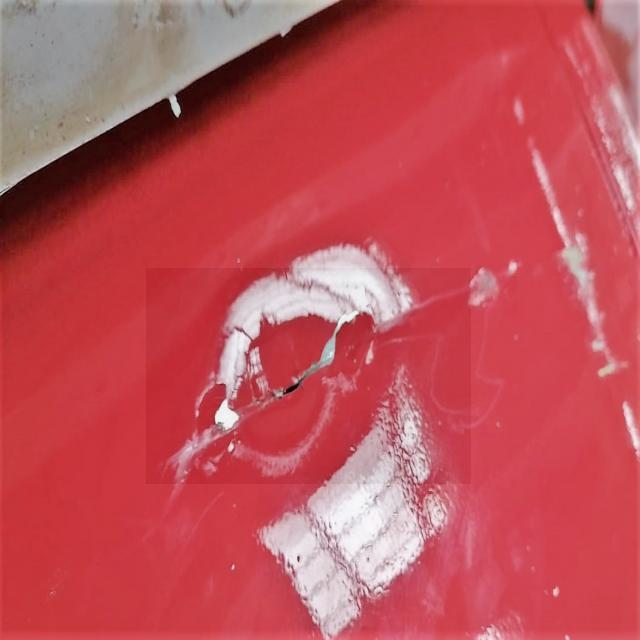crack: (147, 269, 472, 485)
